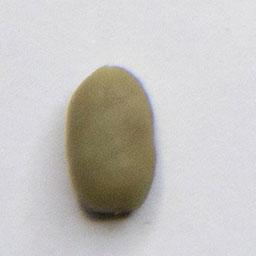peaberry: (61, 61, 160, 220)
